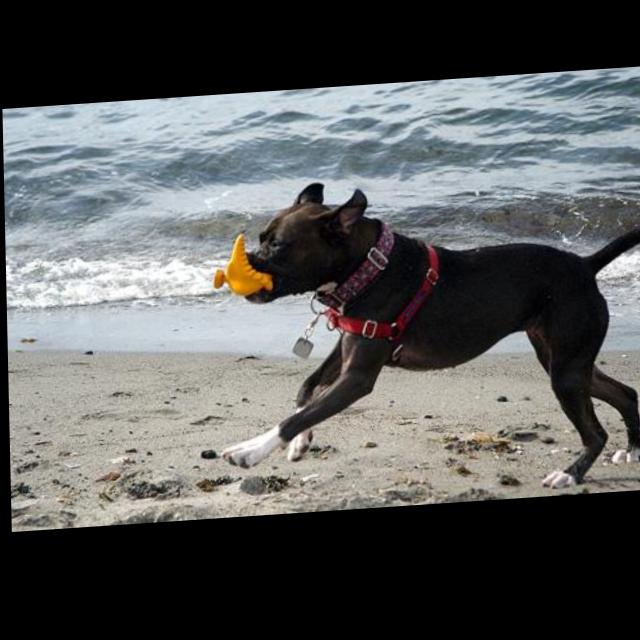amstaff: (215, 168, 640, 515)
